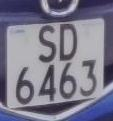3: (78, 56, 101, 100)
4: (36, 62, 60, 109)
6: (14, 66, 38, 110), (57, 60, 79, 105)
D: (57, 20, 78, 62)
S: (35, 22, 59, 63)
